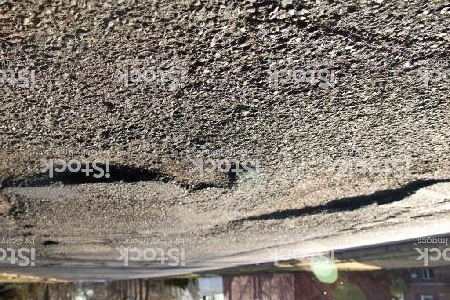pothole: (232, 163, 443, 227), (0, 149, 244, 195)
